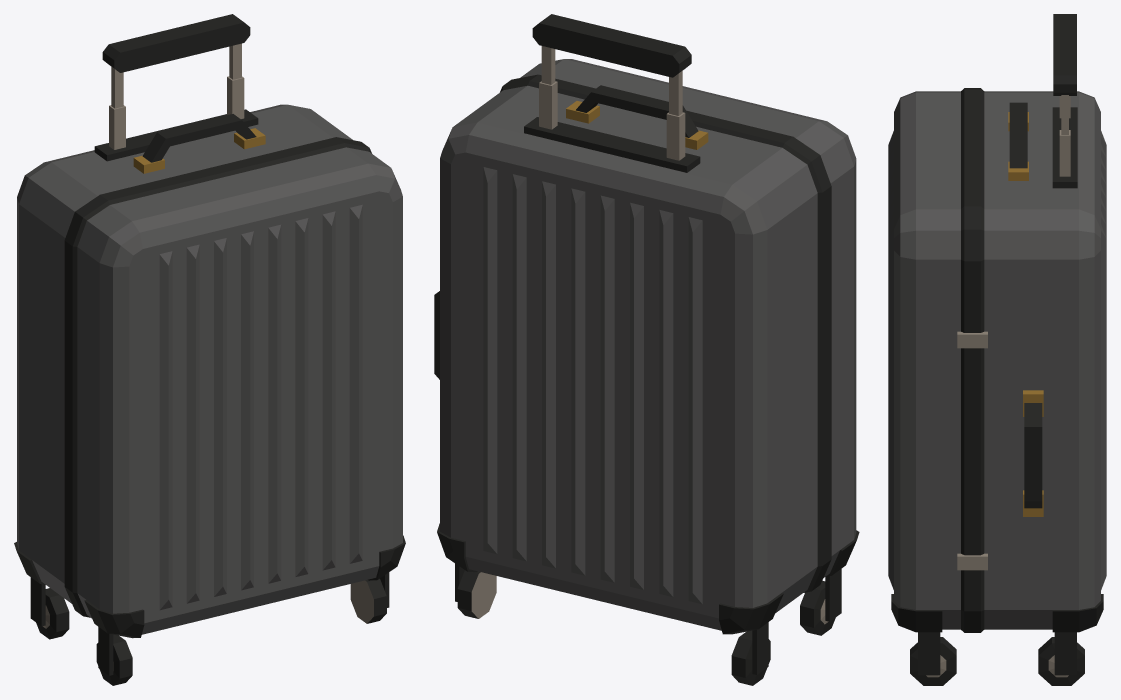
File: spinner-suitcase-1a55f1.glb
3 views of the same model, side by side, from view 1: azimuth 30°, elevation 25°; view 2: azimuth 150°, elevation 25°; view 3: azimuth 270°, elevation 25° (orthographic). The views are drawn at different scales.
Parts seen in each view (by area): view 1: case-body, pull-handle-mesh, tyre-fr, tyre-bl, tyre-fl, cheek-bl, cheek-fl; view 2: case-body, pull-handle-mesh, tyre-br, tyre-fl, tyre-bl, cheek-fl, cheek-bl; view 3: case-body, pull-handle-mesh, tyre-fr, tyre-br, cheek-fr, cheek-br.
Boxes of the visible parts, x1,y1,x2,y2 form: case-body: [14, 104, 405, 638]; pull-handle-mesh: [102, 14, 250, 149]; tyre-fr: [350, 578, 386, 623]; tyre-bl: [36, 588, 69, 639]; tyre-fl: [96, 634, 132, 685]; cheek-bl: [30, 577, 45, 626]; cheek-fl: [98, 627, 113, 675]; case-body: [434, 59, 859, 634]; pull-handle-mesh: [532, 14, 691, 160]; tyre-br: [457, 570, 496, 618]; tyre-fl: [800, 580, 835, 635]; tyre-bl: [731, 630, 770, 685]; cheek-fl: [825, 569, 841, 621]; cheek-bl: [752, 622, 768, 674]; case-body: [888, 88, 1106, 632]; pull-handle-mesh: [1053, 14, 1076, 176]; tyre-fr: [910, 637, 956, 685]; tyre-br: [1038, 637, 1084, 685]; cheek-fr: [918, 632, 940, 675]; cheek-br: [1054, 632, 1076, 675].
Bounding box in the file's own units: 0.558 × 0.92 × 0.316.
